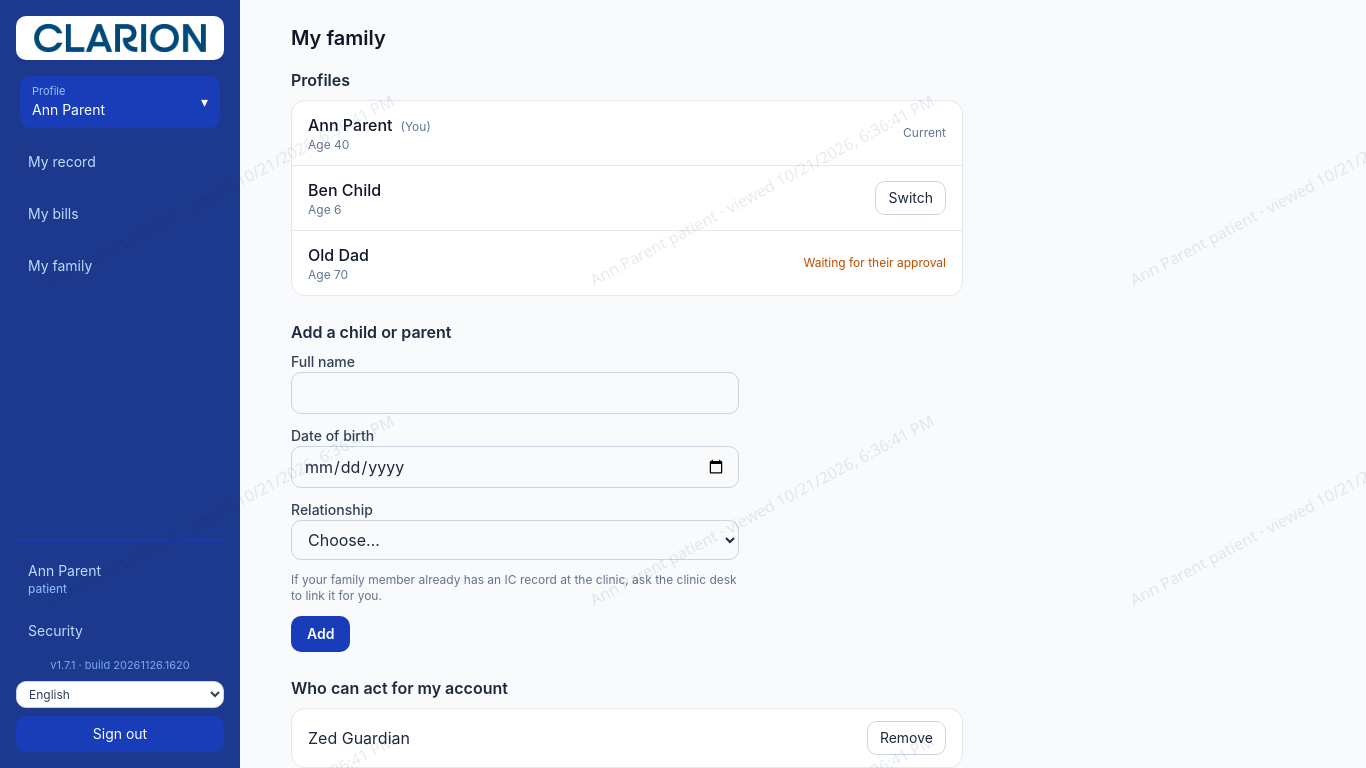
Test: Family page › removes a guardian
The image size is (1366, 768).
Click the button "Remove".
click(906, 738)  # box [867,721,946,755]
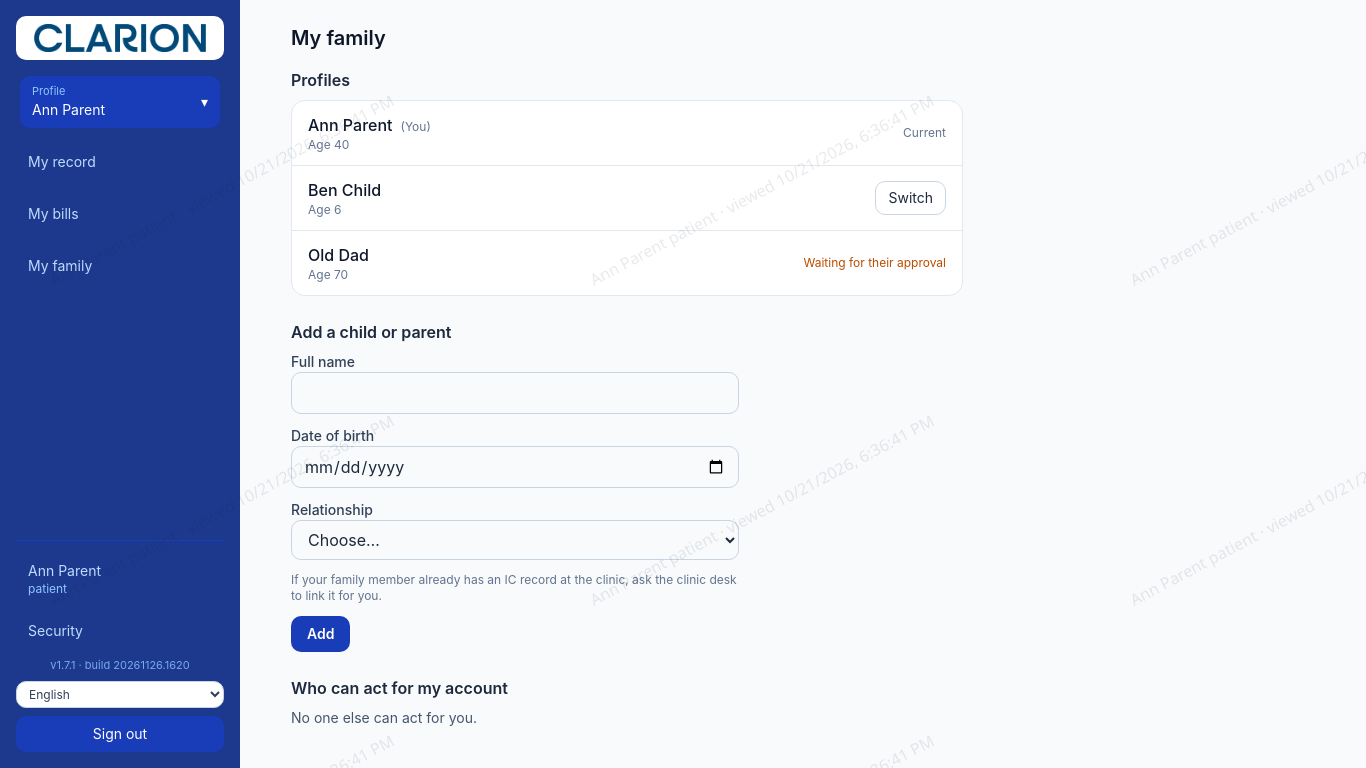
Check: the text "Zed Guardian" is gone
